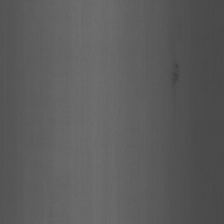inclusion: (169, 61, 182, 97)
